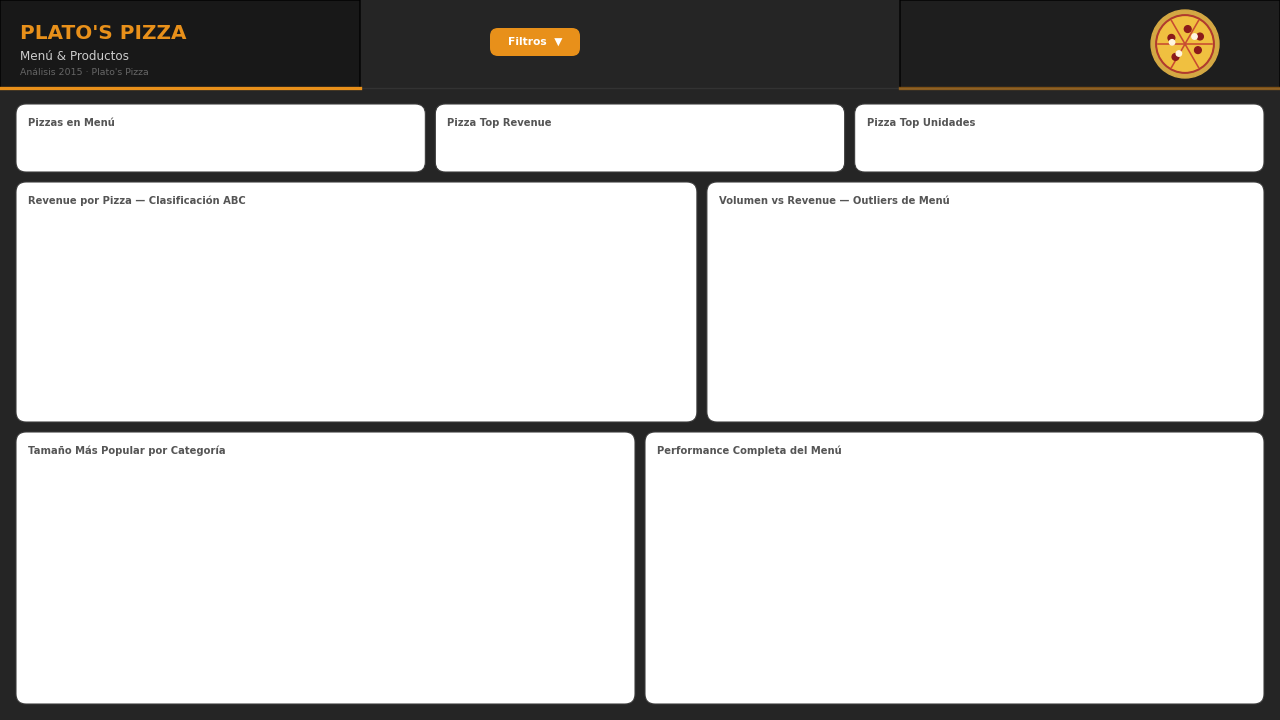

The dashboard page shown, as its layout file describes it:
{"tool":"powerbi","page":{"name":"Menu y Prod","canvas":[1280,720],"ordinal":2},"visuals":[{"type":"textbox","box":[21.1,126.4,402.1,33.4],"z":0},{"type":"textbox","box":[439,126.4,402.1,33.4],"z":1000},{"type":"textbox","box":[857.9,126.4,402.1,33.4],"z":2000},{"type":"clusteredBarChart","fields":{"Category":["agg_pizza_performance.name"],"Y":["Sum(agg_pizza_performance.revenue)"],"Series":["agg_pizza_performance.abc_class"]},"box":[16.7,193.2,677.9,225.7],"z":2001},{"type":"scatterChart","fields":{"X":["Sum(agg_pizza_performance.qty)"],"Y":["Sum(agg_pizza_performance.revenue)"],"Category":["agg_pizza_performance.name"],"Series":["agg_pizza_performance.category"]},"box":[712.1,195.8,551.4,224.8],"z":2002},{"type":"barChart","fields":{"Category":["agg_category_size.category"],"Series":["agg_category_size.size_label"],"Y":["Sum(agg_category_size.qty)"]},"box":[16.7,447.8,615.5,253.8],"z":2003},{"type":"tableEx","fields":{"Values":["agg_pizza_performance.name","agg_pizza_performance.category","Sum(agg_pizza_performance.revenue)","Sum(agg_pizza_performance.qty)","agg_pizza_performance.abc_class"]},"box":[648.9,455.7,614.6,245.9],"z":2004},{"type":"slicer","fields":{"Values":["pizza_features.month_name"]},"box":[719.1,14,172.1,61.5],"z":2005},{"type":"slicer","fields":{"Values":["pizza_features.category"]},"box":[585.7,14,133.5,61.5],"z":2006}]}

Visuals, with their boxes in screenshot pixels (x1, y1, x2, y2), scaled from the page's 1280x720 canvas onto the 1280x720 screenshot:
textbox: select_region(21, 126, 423, 160)
textbox: select_region(439, 126, 841, 160)
textbox: select_region(858, 126, 1260, 160)
clusteredBarChart - agg_pizza_performance.name x Sum(agg_pizza_performance.revenue): select_region(17, 193, 695, 419)
scatterChart - Sum(agg_pizza_performance.qty) x Sum(agg_pizza_performance.revenue): select_region(712, 196, 1264, 421)
barChart - agg_category_size.category x agg_category_size.size_label: select_region(17, 448, 632, 702)
tableEx - agg_pizza_performance.name x agg_pizza_performance.category: select_region(649, 456, 1264, 702)
slicer - pizza_features.month_name: select_region(719, 14, 891, 76)
slicer - pizza_features.category: select_region(586, 14, 719, 76)
